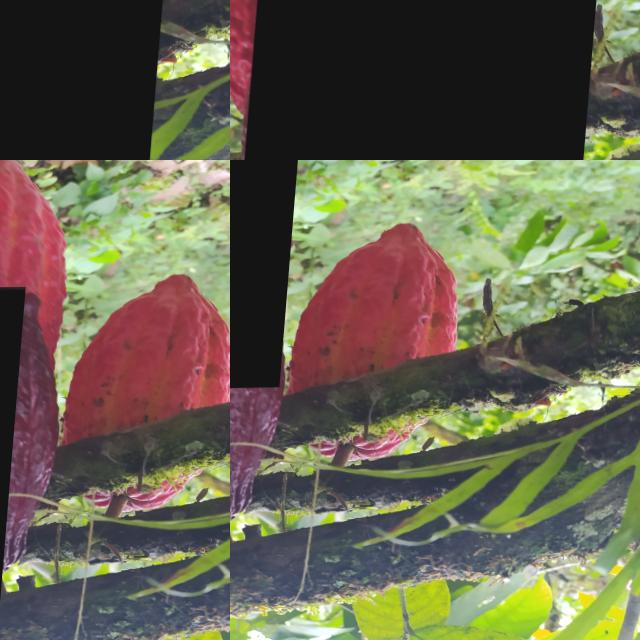Monilia: (236, 0, 609, 160)
Sana: (0, 160, 230, 576), (288, 221, 470, 459), (0, 0, 185, 160), (230, 242, 301, 537), (230, 160, 304, 390)
